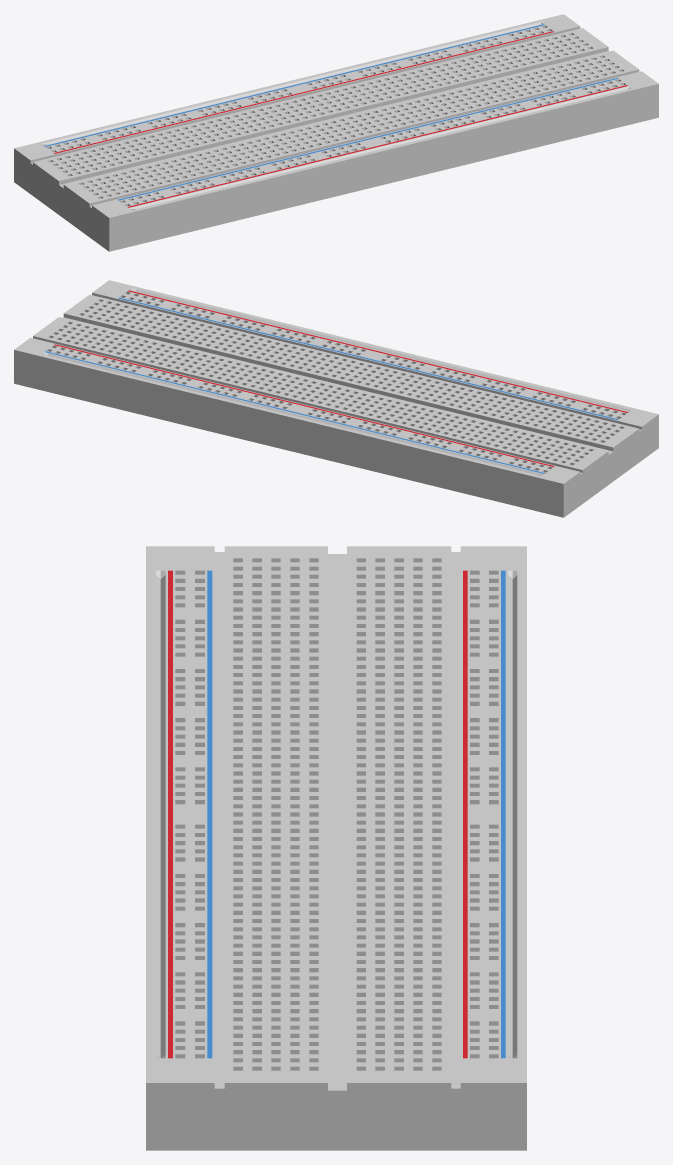
Rendered from Breadboard63R10C.glb.
The picture shows the model from 3 angles, top to bottom: view 1: azimuth 30°, elevation 25°; view 2: azimuth 150°, elevation 25°; view 3: azimuth 270°, elevation 25°; orthographic projection. The views are drawn at different scales.
Parts seen in each view (by area): view 1: Breadboard 63R x 10C; view 2: Breadboard 63R x 10C; view 3: Breadboard 63R x 10C.
Boxes of the visible parts, x1,y1,x2,y2 form: Breadboard 63R x 10C: (14,14,658,251); Breadboard 63R x 10C: (14,280,658,517); Breadboard 63R x 10C: (146,546,526,1150).
Size of the model in its own units: 4.53 by 0.2666 by 1.36.
